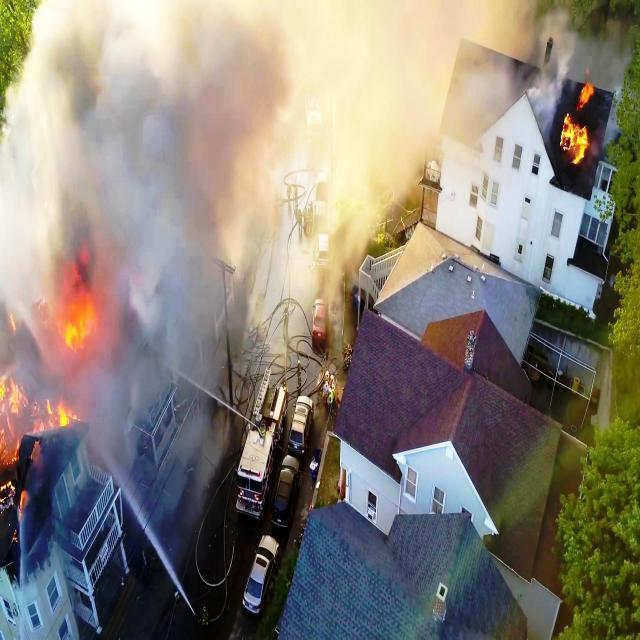Fire: (0, 382, 75, 456), (56, 267, 94, 349), (565, 108, 587, 181)
Smoke: (35, 3, 254, 227)
